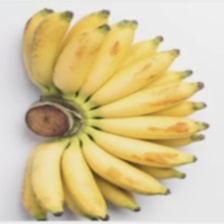banana: (4, 20, 197, 194)
